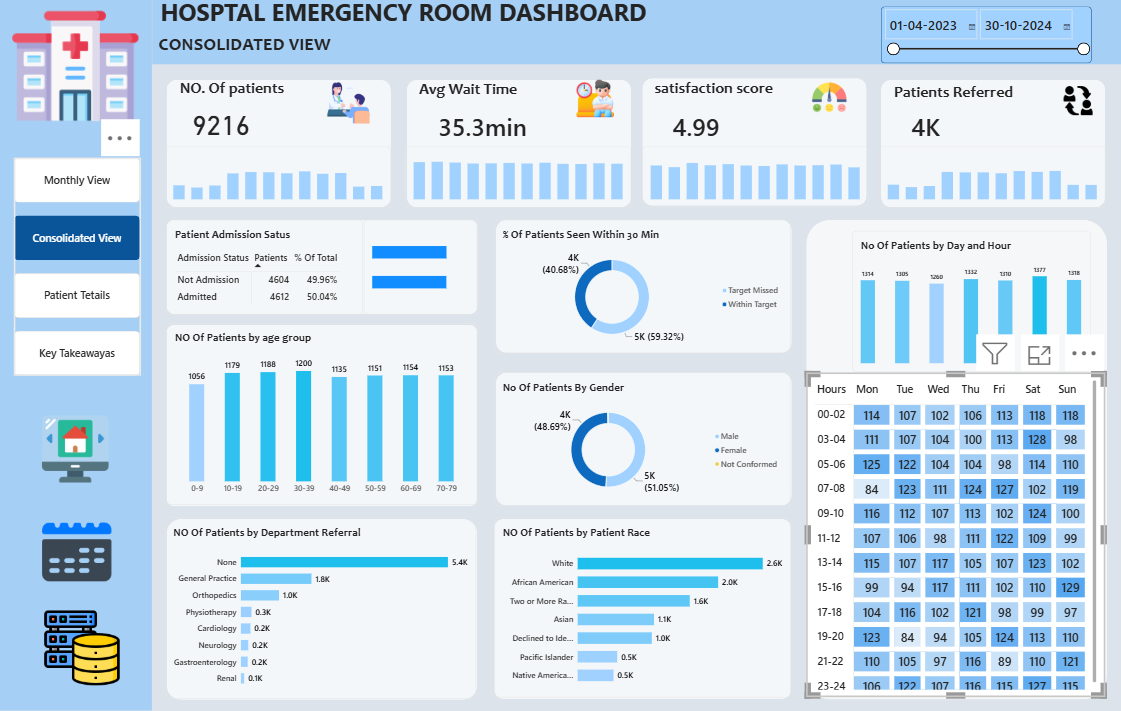

What the dashboard file says about the page in this screenshot:
{"tool":"powerbi","page":{"name":"Consolidated View","canvas":[2280,1450],"ordinal":1},"visuals":[{"type":"shape","box":[0,0,309.5,1450],"z":0},{"type":"shape","box":[308.9,0,1990.7,139.7],"z":1000},{"type":"textbox","box":[309.5,140.5,364.4,28.5],"z":2000},{"type":"textbox","box":[324.9,0,1220.5,87.8],"z":3000},{"type":"shape","box":[338.3,171.5,455,259],"z":4000},{"type":"textbox","box":[324.2,73.7,383.1,67.8],"z":5000},{"type":"cardVisual","fields":{"Data":["Hospital ER_Data.NO Of Patients"]},"box":[375.1,223.1,179,80.9],"z":6000},{"type":"slicer","fields":{"Values":["Data Table.Date"]},"box":[1786,23.6,427.3,114.9],"z":7000},{"type":"textbox","box":[351.2,169,307.3,54.9],"z":8000},{"type":"columnChart","fields":{"Category":["Data Table.month name"],"Y":["Hospital ER_Data.NO Of Patients"]},"box":[336,306.5,458.5,125],"z":9000},{"type":"shape","box":[1304.8,168.2,455,259],"z":10000},{"type":"shape","box":[1788.1,170.6,455,259],"z":11000},{"type":"shape","box":[826.2,171.6,455,259],"z":12000},{"type":"cardVisual","fields":{"Data":["Hospital ER_Data.Avg Wait Time"]},"box":[872.8,223.1,220.6,83.4],"z":13000},{"type":"columnChart","fields":{"Category":["Data Table.month name"],"Y":["Avg(Hospital ER_Data.Patient Waittime)"]},"box":[823.7,307.5,458.5,125],"z":14000},{"type":"textbox","box":[823.7,171.6,250.1,51.5],"z":15000},{"type":"columnChart","fields":{"Category":["Data Table.month name"],"Y":["Hospital ER_Data.satisfaction"]},"box":[1301.8,305,458.5,125],"z":16000},{"type":"cardVisual","fields":{"Data":["Hospital ER_Data.satisfaction"]},"box":[1348.4,223.1,220.6,83.4],"z":17000},{"type":"textbox","box":[1304.3,169.2,450,53.9],"z":18000},{"type":"textbox","box":[1787.2,171.6,456,51.5],"z":19000},{"type":"cardVisual","fields":{"Data":["Hospital ER_Data.NO Of Patient Referred"]},"box":[1831.4,223.1,220.6,83.4],"z":20000},{"type":"shape","box":[338.9,453.9,630.7,191.6],"z":21000},{"type":"columnChart","fields":{"Category":["Data Table.month name"],"Y":["Hospital ER_Data.NO Of Patient Referred"]},"box":[1784.8,305,458.5,125],"z":22000},{"type":"barChart","fields":{"Category":["Hospital ER_Data.Admission Status"],"Y":["Hospital ER_Data.NO Of Patients"]},"box":[739.7,453.9,229.9,191.6],"z":23000},{"type":"shape","box":[338.3,666.8,630,368],"z":24000},{"type":"clusteredColumnChart","title":"NO Of Patients by age group","fields":{"Y":["Hospital ER_Data.NO Of Patients"],"Category":["Hospital ER_Data.Age Group"]},"box":[338.9,666.1,630.1,367.7],"z":25000},{"type":"shape","box":[338.9,1061,630,367],"z":26000},{"type":"clusteredBarChart","fields":{"Category":["Hospital ER_Data.Department Referral"],"Y":["Hospital ER_Data.NO Of Patients"]},"box":[336,1058,630.7,368.4],"z":27000},{"type":"pivotTable","title":"Patient Admission Satus","fields":{"Rows":["Hospital ER_Data.Admission Status"],"Values":["Hospital ER_Data.NO Of Patients1","Hospital ER_Data.NO Of Patients"]},"box":[338.9,453.9,397.9,191.6],"z":28000},{"type":"shape","box":[1005,453.9,600,270],"z":29000},{"type":"donutChart","title":"% Of Patients  Seen Within 30 Min","fields":{"Category":["Hospital ER_Data.Waittime Status"],"Y":["Hospital ER_Data.NO Of Patients"]},"box":[1002,453.9,601.2,271.1],"z":30000},{"type":"shape","box":[1005,763.3,600,270],"z":31000},{"type":"donutChart","title":"No Of Patients By Gender","fields":{"Y":["Hospital ER_Data.NO Of Patients"],"Category":["Hospital ER_Data.Patient Gender"]},"box":[1002,763.3,600,271.2],"z":32000},{"type":"shape","box":[1004.5,1060.6,601.5,365.2],"z":33000},{"type":"clusteredBarChart","fields":{"Y":["Hospital ER_Data.NO Of Patients"],"Category":["Hospital ER_Data.Patient Race"]},"box":[1002,1058,601.2,365.4],"z":34000},{"type":"shape","box":[1635.7,453.9,610.1,972.6],"z":35000},{"type":"pivotTable","fields":{"Rows":["Hospital ER_Data.Waittime Interval"],"Columns":["Data Table.Day Name"],"Values":["Hospital ER_Data.NO Of Patients"]},"box":[1636,764,606,660],"z":36000},{"type":"columnChart","title":"No Of Patients by Day and Hour","fields":{"Category":["Data Table.Day Name"],"Y":["Hospital ER_Data.NO Of Patients"]},"box":[1730.3,477.3,483.3,286.4],"z":37000},{"type":"image","box":[622.7,171.2,169.7,93.9],"z":38000},{"type":"image","box":[1139.4,169.7,137.9,75.8],"z":39000},{"type":"image","box":[1636.4,169.7,93.9,71.2],"z":40000},{"type":"image","box":[2130.8,182.7,109,58.9],"z":41000},{"type":"image","box":[26.5,0,256.4,285.9],"z":42000},{"type":"pageNavigator","box":[29.5,330.1,256.4,442.1],"z":43000},{"type":"image","box":[2.9,851.7,300.6,135.6],"z":44000},{"type":"image","box":[5.9,1058,300.6,141.5],"z":45000},{"type":"image","box":[26.5,1240.8,282.9,162.1],"z":46000}]}

Visuals, with their boxes in screenshot pixels (x1, y1, x2, y2), scaled from the page's 2280x1450 canvas onto the 1121x711 screenshot:
shape: <region>0, 0, 152, 710</region>
shape: <region>152, 0, 1120, 69</region>
textbox: <region>152, 69, 331, 83</region>
textbox: <region>160, 0, 760, 43</region>
shape: <region>166, 84, 390, 211</region>
textbox: <region>159, 36, 348, 69</region>
cardVisual - Hospital ER_Data.NO Of Patients: <region>184, 109, 272, 149</region>
slicer - Data Table.Date: <region>878, 12, 1088, 68</region>
textbox: <region>173, 83, 324, 110</region>
columnChart - Data Table.month name x Hospital ER_Data.NO Of Patients: <region>165, 150, 391, 212</region>
shape: <region>642, 82, 865, 209</region>
shape: <region>879, 84, 1103, 211</region>
shape: <region>406, 84, 630, 211</region>
cardVisual - Hospital ER_Data.Avg Wait Time: <region>429, 109, 538, 150</region>
columnChart - Data Table.month name x Avg(Hospital ER_Data.Patient Waittime): <region>405, 151, 630, 212</region>
textbox: <region>405, 84, 528, 109</region>
columnChart - Data Table.month name x Hospital ER_Data.satisfaction: <region>640, 150, 865, 211</region>
cardVisual - Hospital ER_Data.satisfaction: <region>663, 109, 771, 150</region>
textbox: <region>641, 83, 863, 109</region>
textbox: <region>879, 84, 1103, 109</region>
cardVisual - Hospital ER_Data.NO Of Patient Referred: <region>900, 109, 1009, 150</region>
shape: <region>167, 223, 477, 317</region>
columnChart - Data Table.month name x Hospital ER_Data.NO Of Patient Referred: <region>878, 150, 1103, 211</region>
barChart - Hospital ER_Data.Admission Status x Hospital ER_Data.NO Of Patients: <region>364, 223, 477, 317</region>
shape: <region>166, 327, 476, 507</region>
"NO Of Patients by age group" clusteredColumnChart: <region>167, 327, 476, 507</region>
shape: <region>167, 520, 476, 700</region>
clusteredBarChart - Hospital ER_Data.Department Referral x Hospital ER_Data.NO Of Patients: <region>165, 519, 475, 699</region>
"Patient Admission Satus" pivotTable: <region>167, 223, 362, 317</region>
shape: <region>494, 223, 789, 355</region>
"% Of Patients  Seen Within 30 Min" donutChart: <region>493, 223, 788, 356</region>
shape: <region>494, 374, 789, 507</region>
"No Of Patients By Gender" donutChart: <region>493, 374, 788, 507</region>
shape: <region>494, 520, 790, 699</region>
clusteredBarChart - Hospital ER_Data.NO Of Patients x Hospital ER_Data.Patient Race: <region>493, 519, 788, 698</region>
shape: <region>804, 223, 1104, 699</region>
pivotTable - Hospital ER_Data.Waittime Interval x Data Table.Day Name: <region>804, 375, 1102, 698</region>
"No Of Patients by Day and Hour" columnChart: <region>851, 234, 1088, 374</region>
image: <region>306, 84, 390, 130</region>
image: <region>560, 83, 628, 120</region>
image: <region>805, 83, 851, 118</region>
image: <region>1048, 90, 1101, 118</region>
image: <region>13, 0, 139, 140</region>
pageNavigator: <region>15, 162, 141, 379</region>
image: <region>1, 418, 149, 484</region>
image: <region>3, 519, 151, 588</region>
image: <region>13, 608, 152, 688</region>
